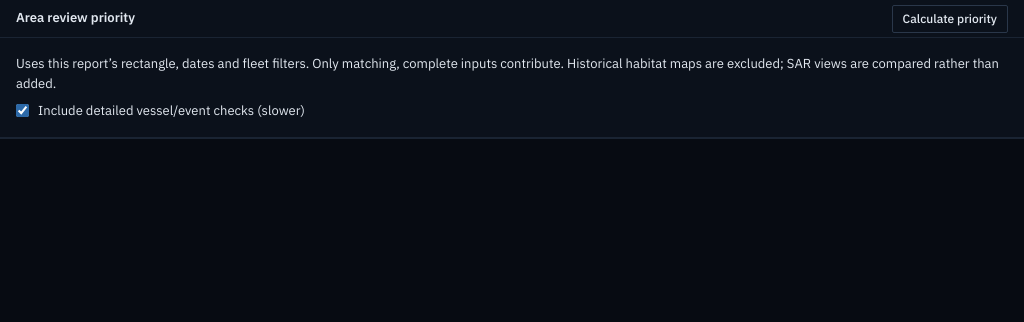
Test case: lets users explicitly skip detailed vessel calls while retaining an incomplete assessment
Click the checkbox labelled "Include detailed vessel/event checks (slower)": (22, 110) [16,104,29,117]
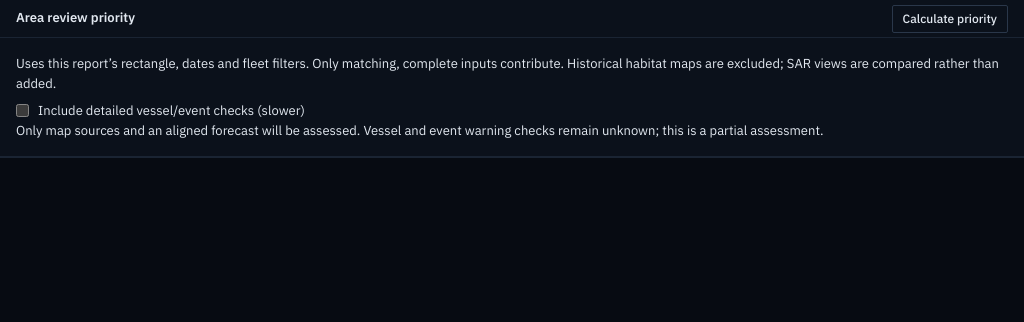
expect the text "Vessel and event warning checks remain unknown" is shown: met, box [16,122,824,138]
Click the button "Calculate priority": (950, 18) [892,4,1008,32]
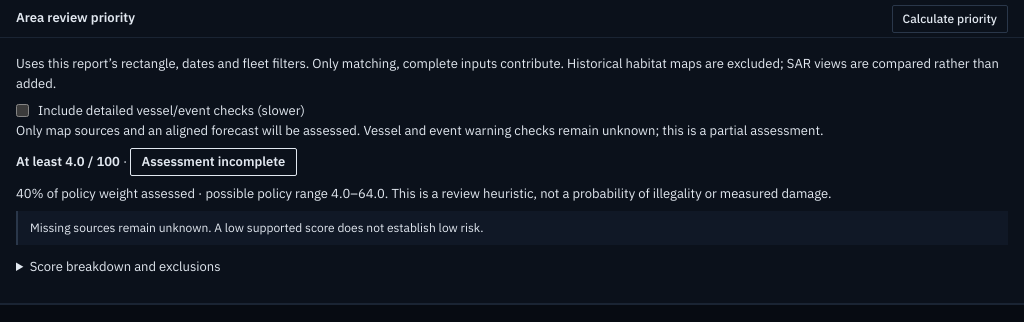
expect the text "Assessment incomplete" is shown: met, box [130,148,297,176]
